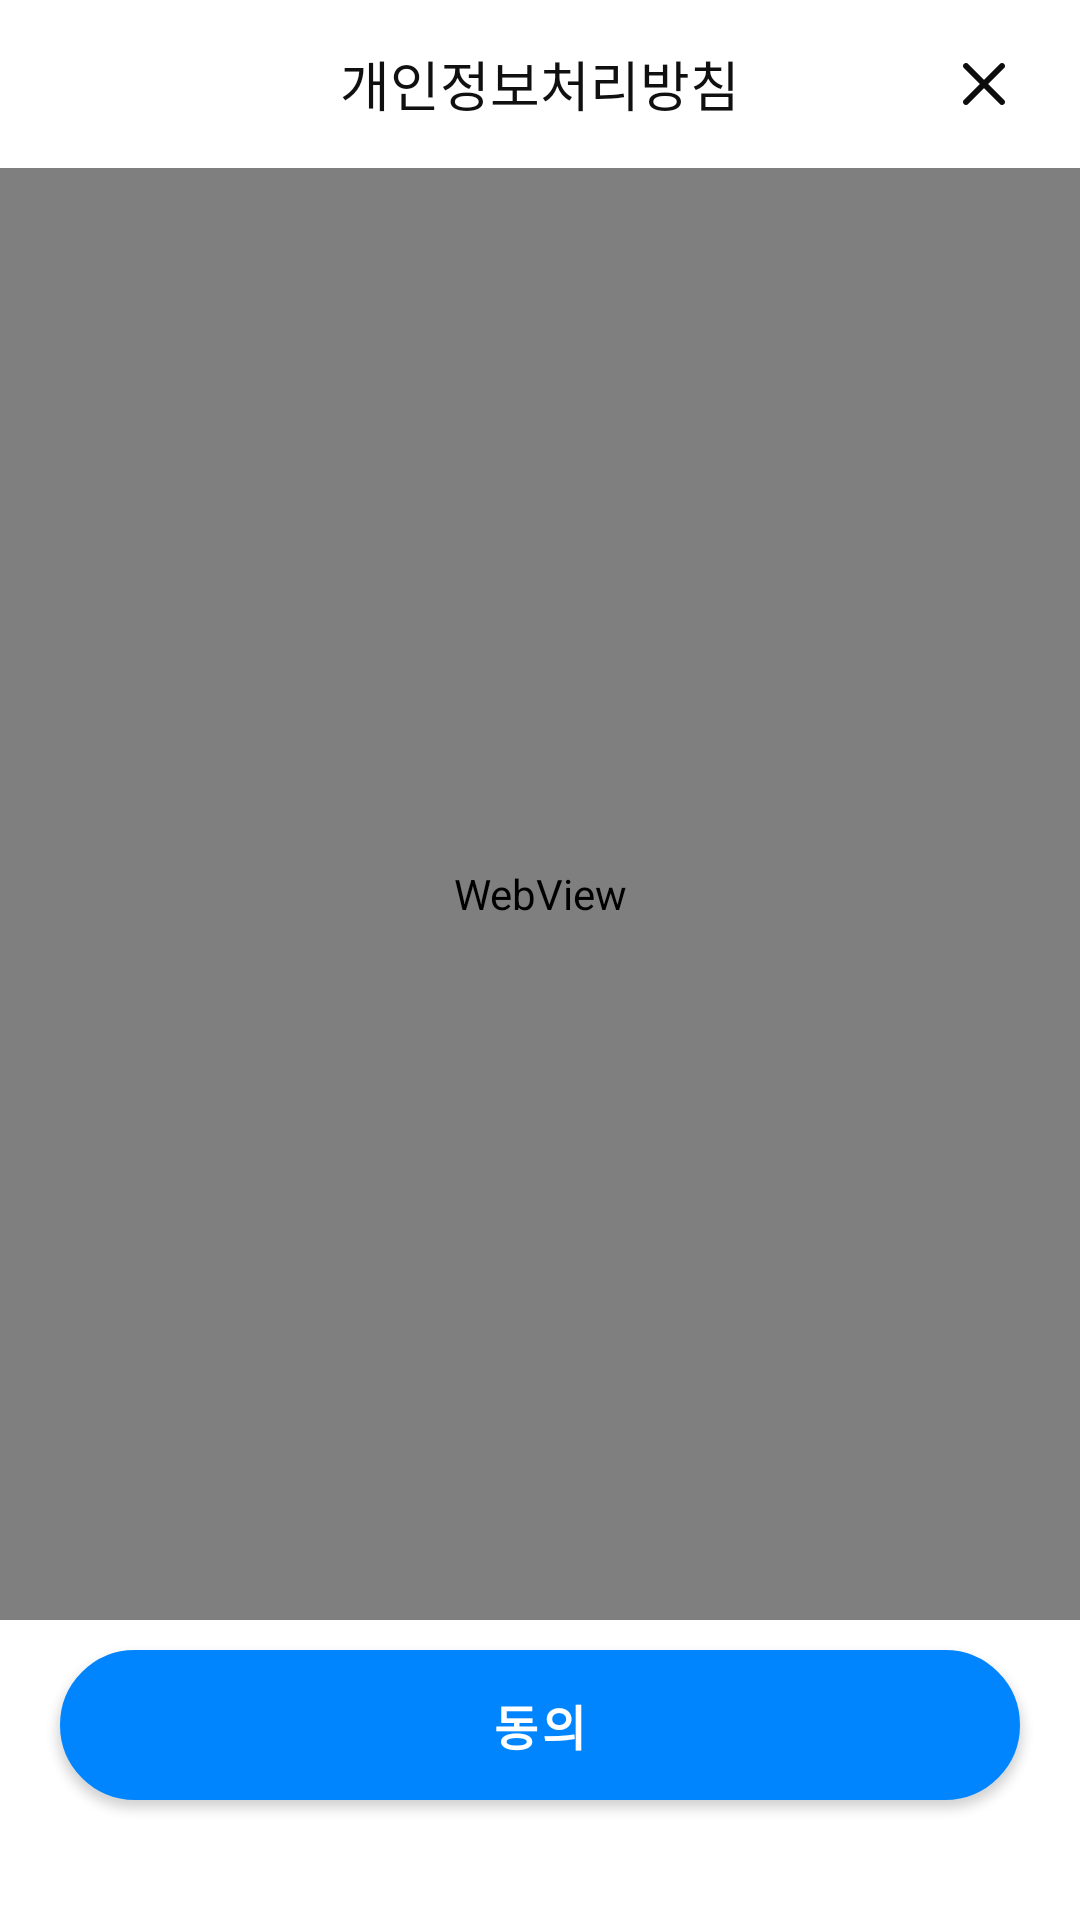

Icon click points for this 1080 x 1920 phone screenshot, format (x,y):
close: (984,84)
